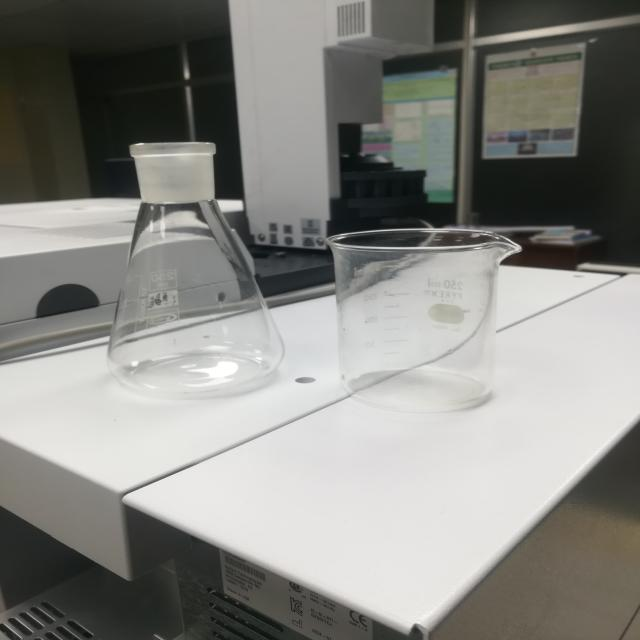Beaker: (321, 208, 536, 432)
Conical_Flask: (82, 121, 303, 411)
